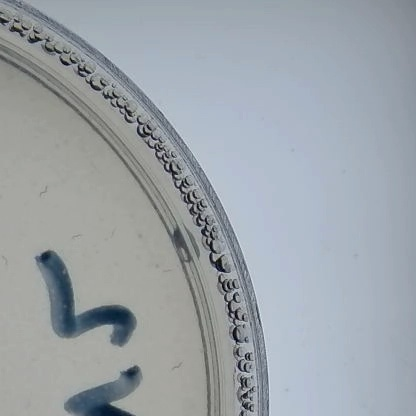worm: (150, 257, 178, 276), (165, 357, 184, 372), (65, 228, 85, 240), (0, 254, 14, 270), (35, 184, 50, 198), (104, 224, 120, 237)
